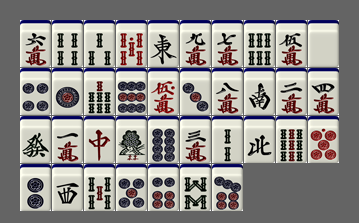0m: (148, 68, 179, 115)
0p: (308, 116, 339, 163)
0s: (116, 20, 147, 67)
1m: (52, 116, 83, 163)
1p: (52, 68, 83, 115)
1s: (116, 116, 147, 163)
1z: (148, 20, 179, 67)
2m: (276, 68, 307, 115)
2p: (20, 164, 51, 211)
2s: (212, 116, 243, 163)
2z: (244, 68, 275, 115)
3m: (180, 116, 211, 163)
3p: (180, 68, 211, 115)
3s: (84, 20, 115, 67)
3z: (52, 164, 83, 211)
4m: (308, 68, 339, 115)
4p: (20, 68, 51, 115)
4s: (52, 20, 83, 67)
4z: (244, 116, 275, 163)
5m: (276, 20, 307, 67)
5p: (116, 164, 147, 211)
5s: (84, 164, 115, 211)
5z: (308, 20, 339, 67)
6m: (20, 20, 51, 67)
6p: (148, 164, 179, 211)
6s: (244, 20, 275, 67)
6z: (20, 116, 51, 163)
7m: (212, 20, 243, 67)
7p: (212, 164, 243, 211)
7s: (84, 68, 115, 115)
7z: (84, 116, 115, 163)
8m: (212, 68, 243, 115)
8p: (148, 116, 179, 163)
8s: (180, 164, 211, 211)
9m: (180, 20, 211, 67)
9p: (116, 68, 147, 115)
9s: (276, 116, 307, 163)
